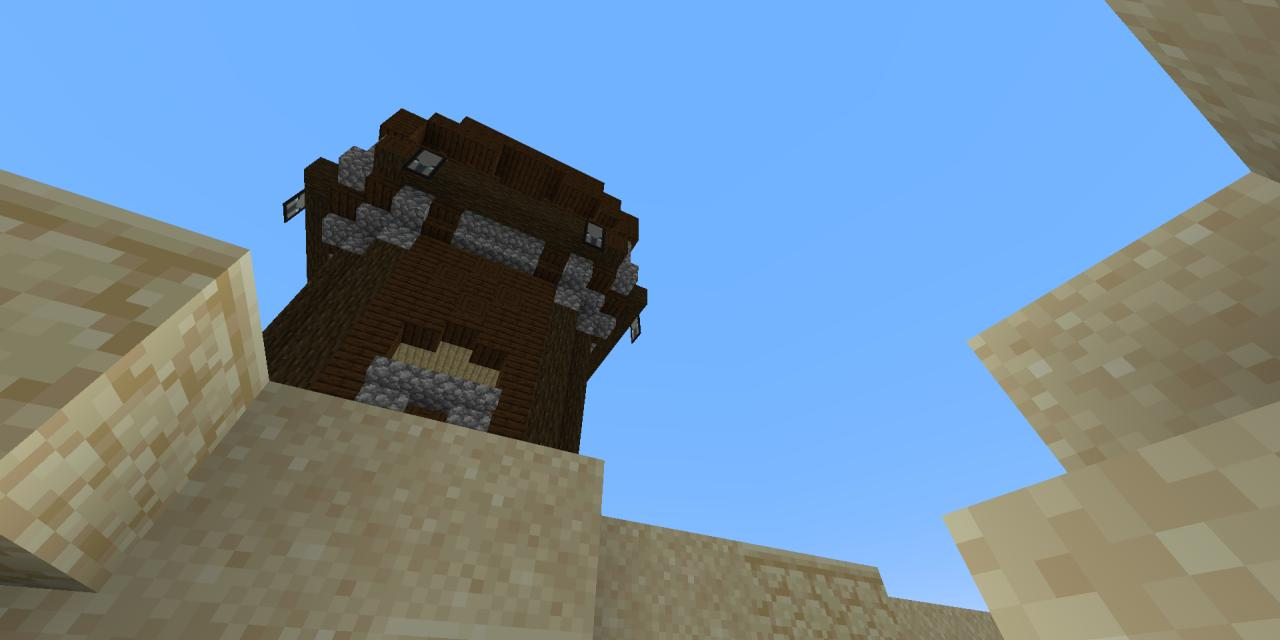pillager outpost: (245, 100, 664, 455)
